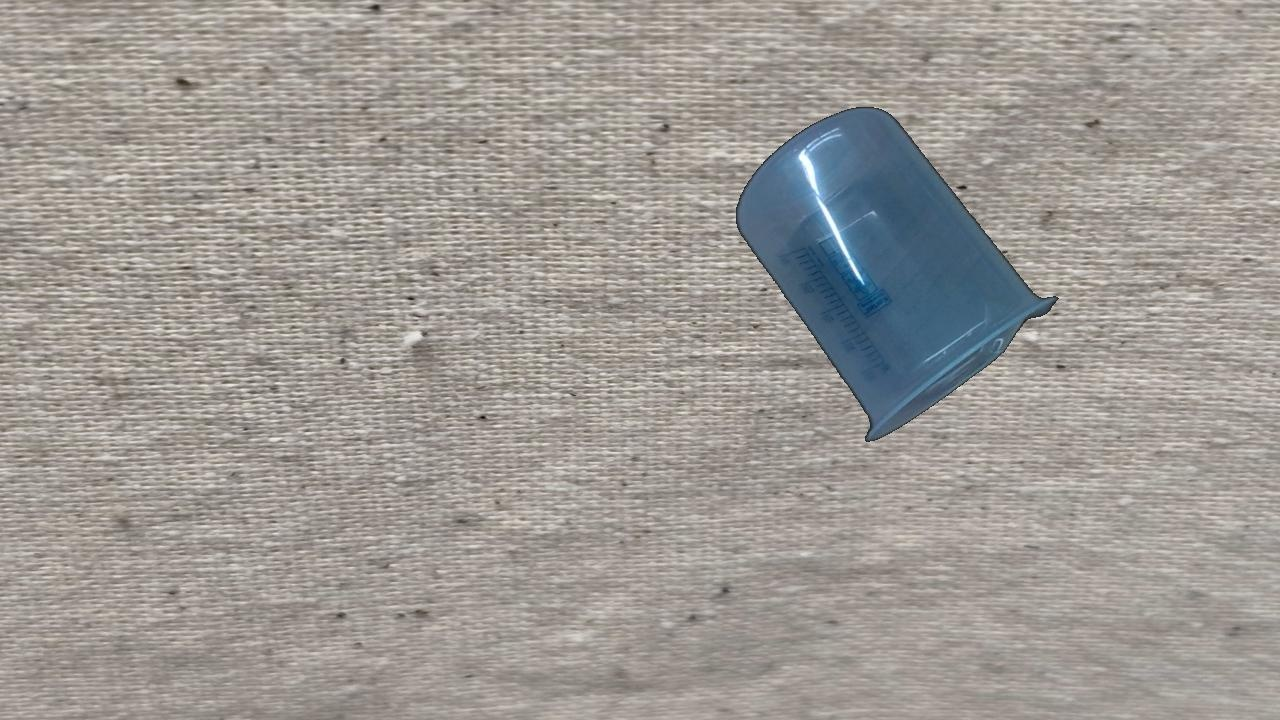cup: (737, 105, 1057, 445)
